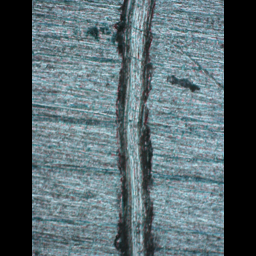d: (112, 0, 160, 254)
